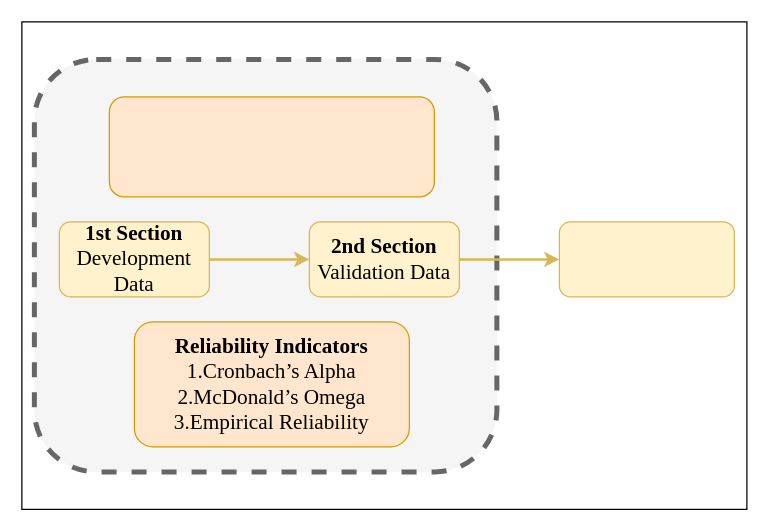
Image size: 769x531. Some labels were removed from this diagram. The shapes that lost their labels are listed below. From the top down, each one's centre as x and y in pixels, then its label:
At (271,146): "Score Correlation Indicators 1.Raw Score Correlation 2.Latent Trait Correlation".
At (646,259): "3rd Section Content Validity Analysis".
